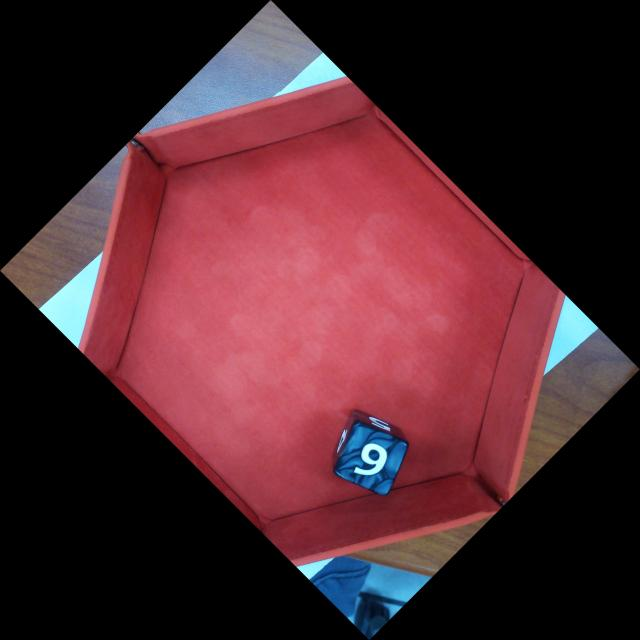dice: (338, 424, 409, 499)
